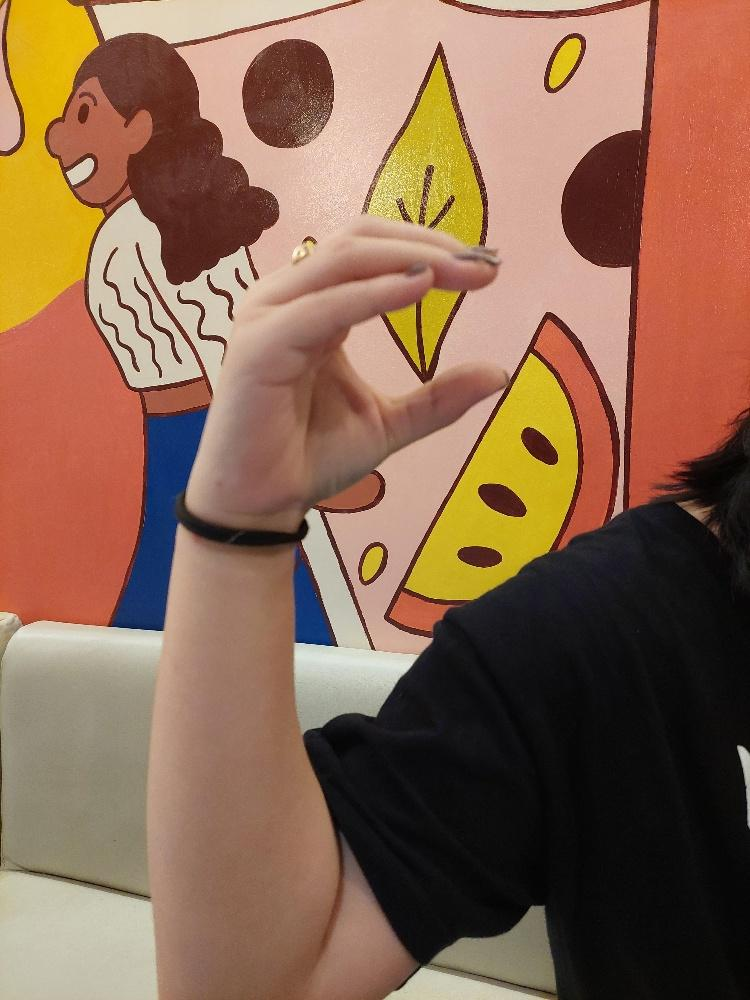c: (203, 211, 514, 519)
